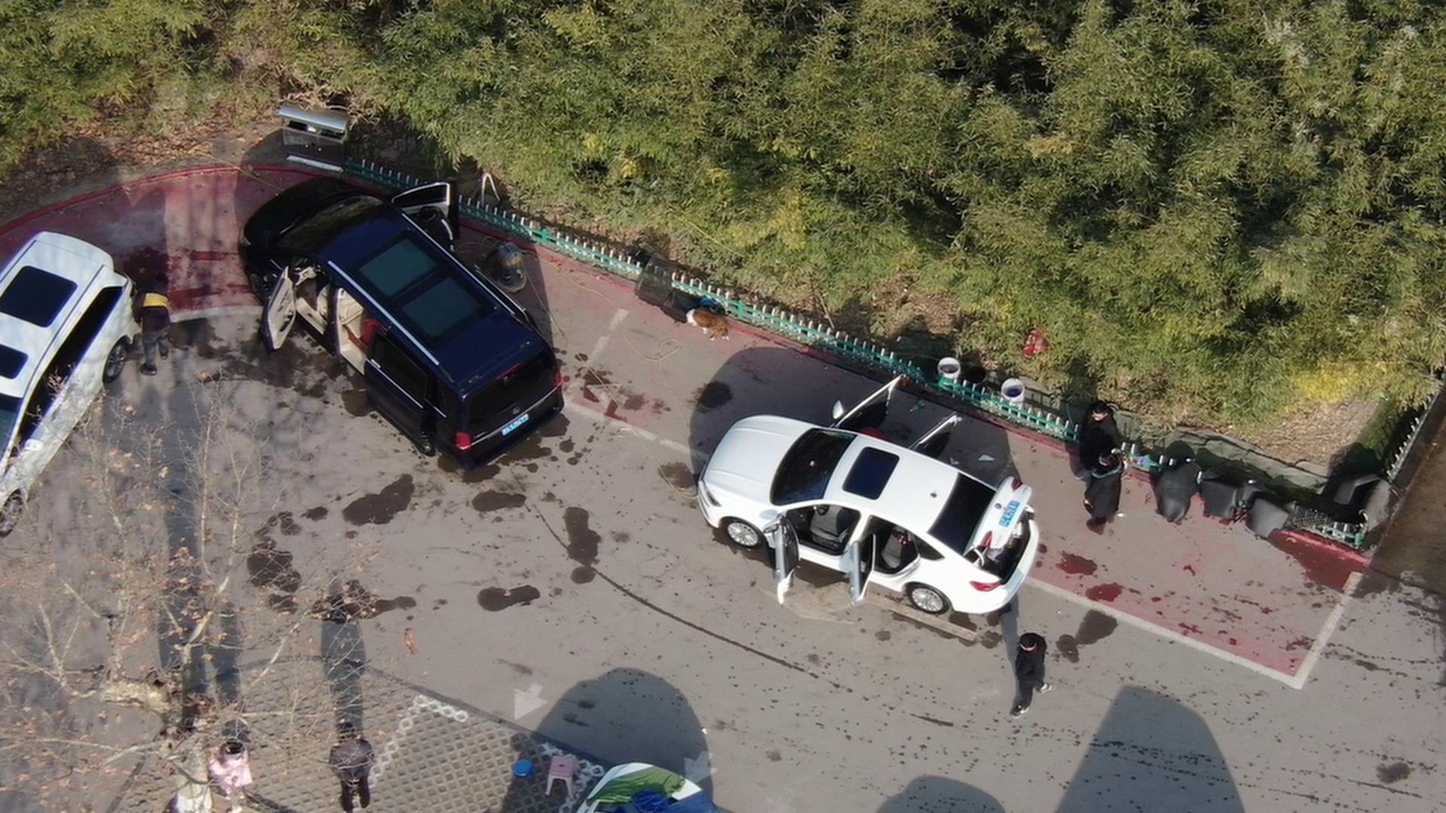human: (1002, 623, 1064, 718), (326, 714, 383, 805), (1078, 446, 1127, 537), (140, 274, 175, 385), (1082, 400, 1121, 464)
